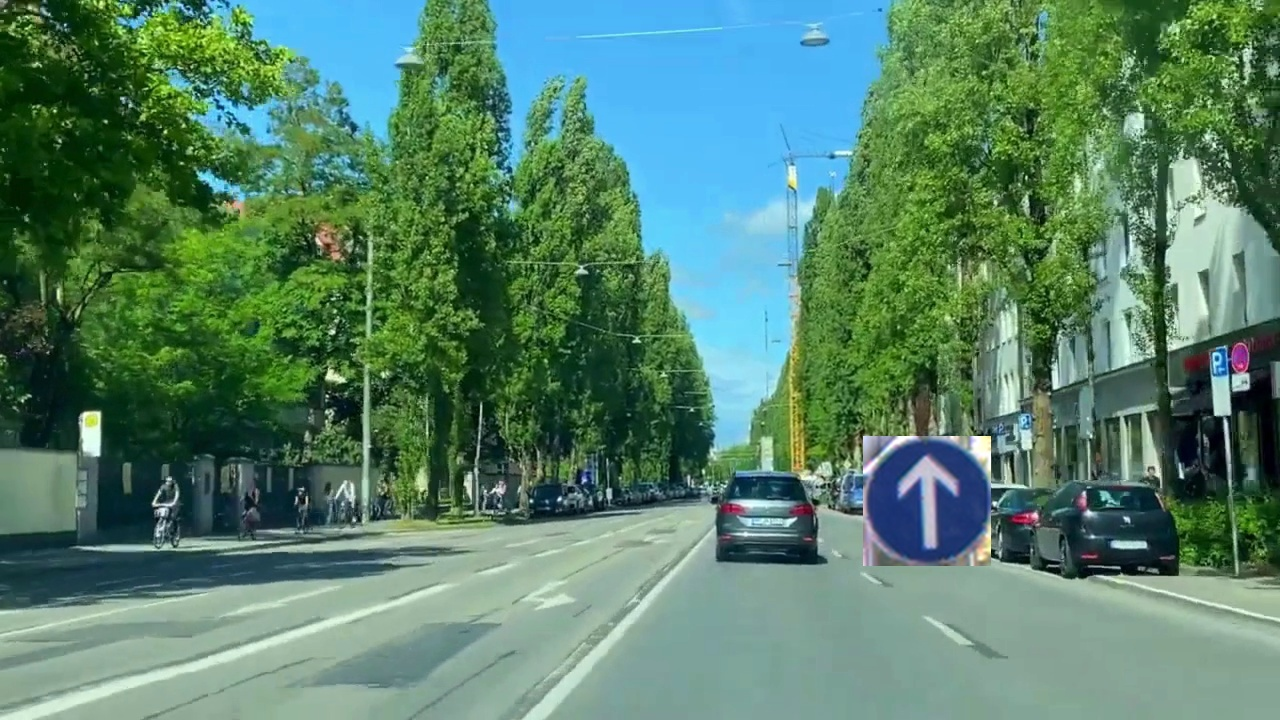Ahead only: (863, 436, 991, 566)
